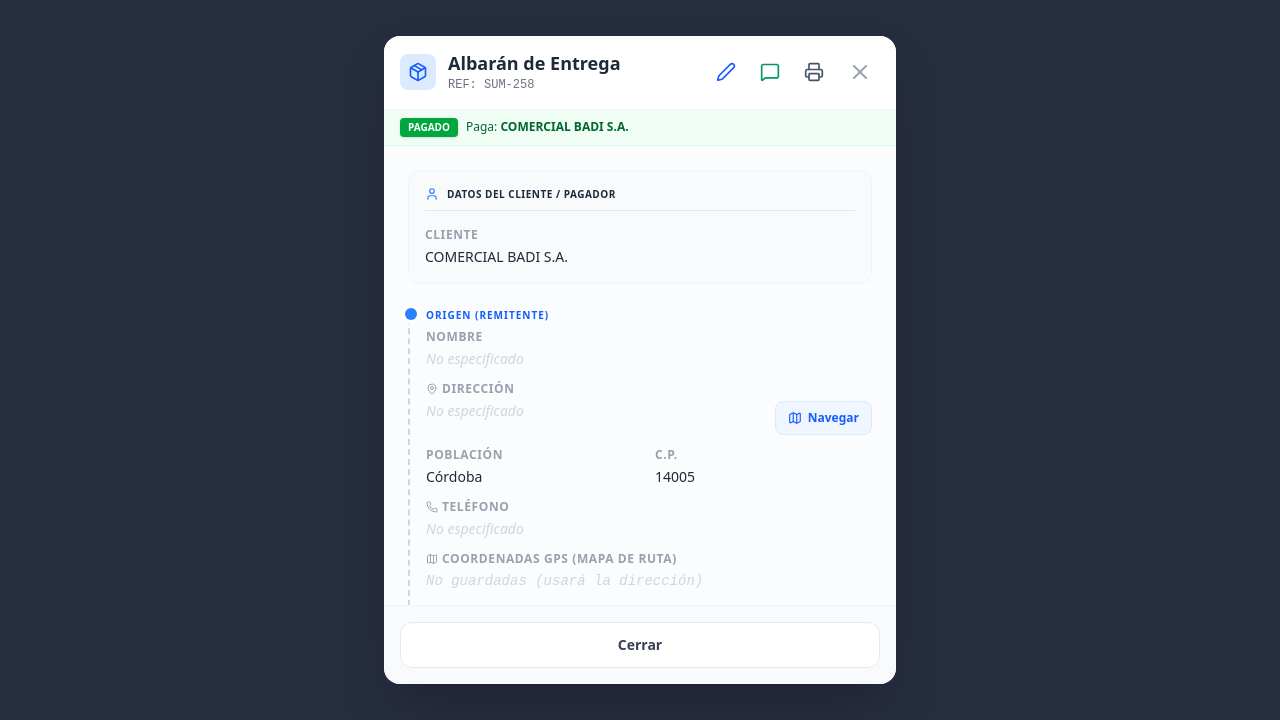
Scenario: ShipmentDetailsModal: el precio al editar › pulsar Editar deja el precio guardado tal cual
Click the button titled "Editar". click: x=726, y=72
box: [708, 54, 744, 90]
(page scrolled)
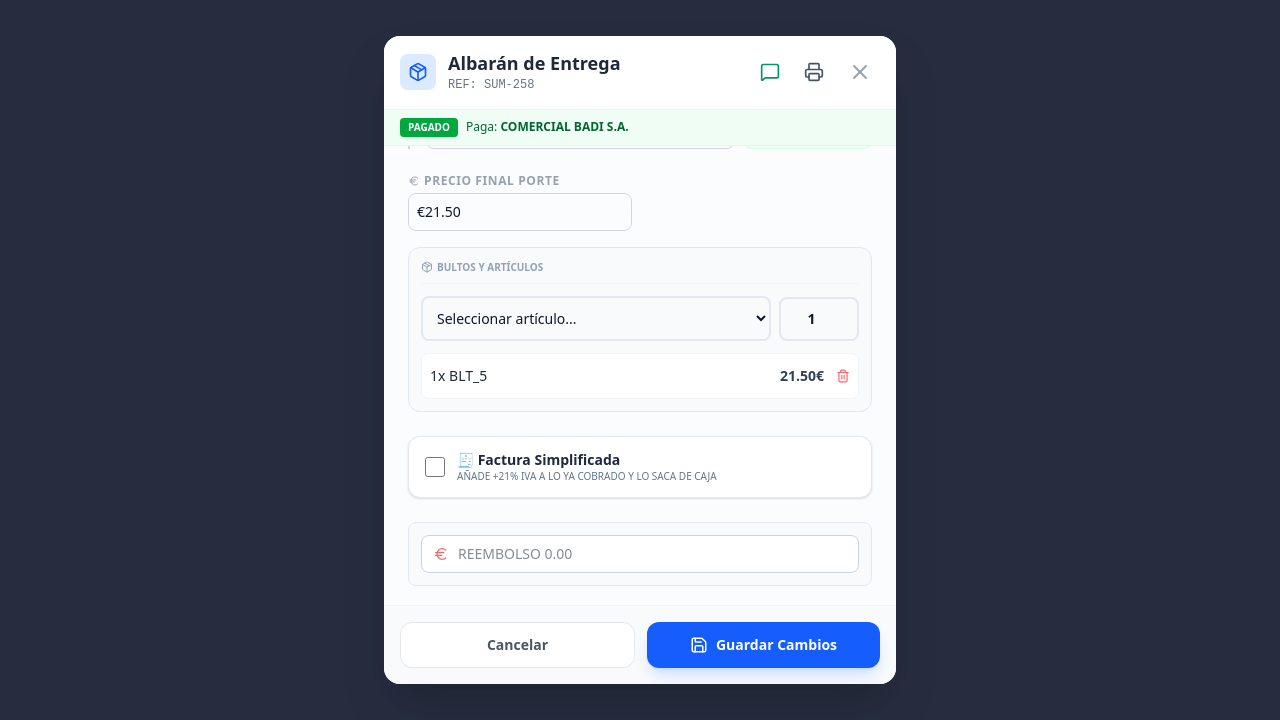
expect the field showing "€21.50" is shown: met, box [408, 192, 632, 230]
expect the text "21.50€" is shown: met, box [780, 366, 824, 386]
